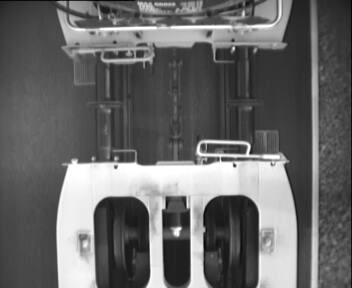Copy of Copy of Copy of wagon_scan: (83, 188, 272, 288)
